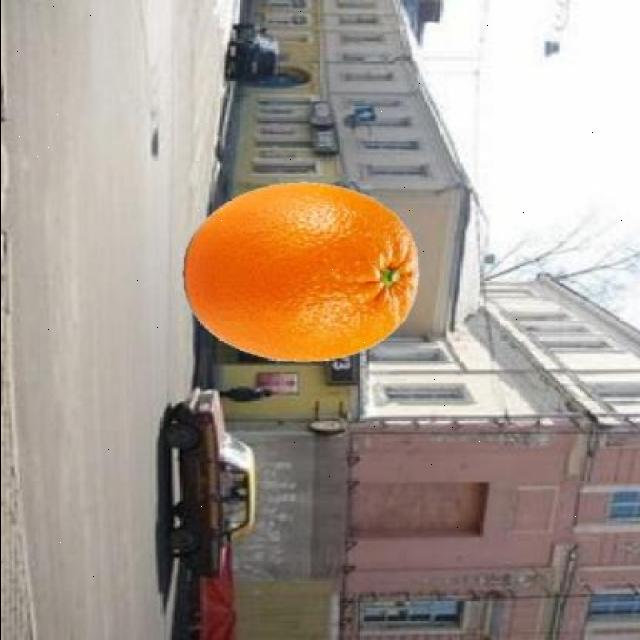Orange: (184, 179, 422, 363)
